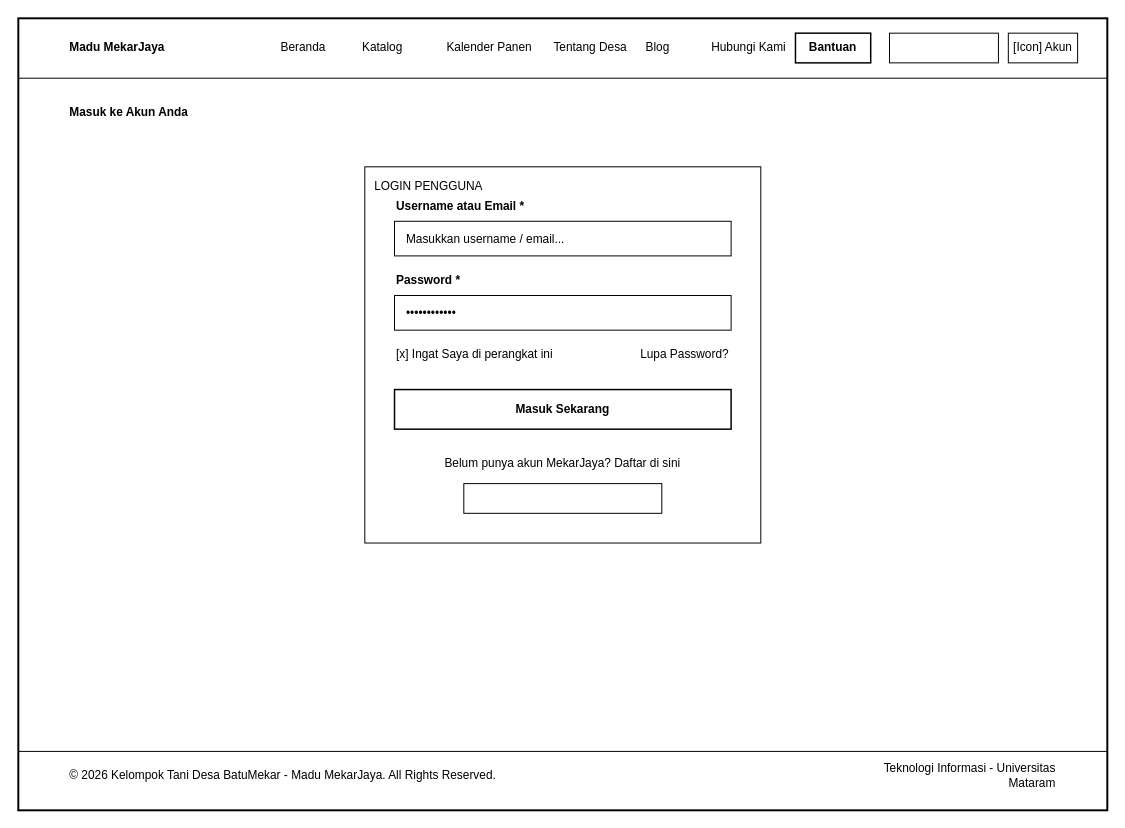
The diagram is 1125 pixels wide and 828 high, and some of its shapes have lost their labels. Each missing label, with the box of its shape:
[Icon] Keranjang (2): (889, 32, 998, 63)
Daftar Akun Baru: (463, 483, 662, 513)
